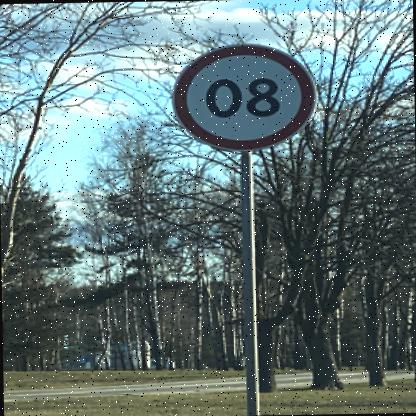speedlimit: (173, 40, 320, 150)
